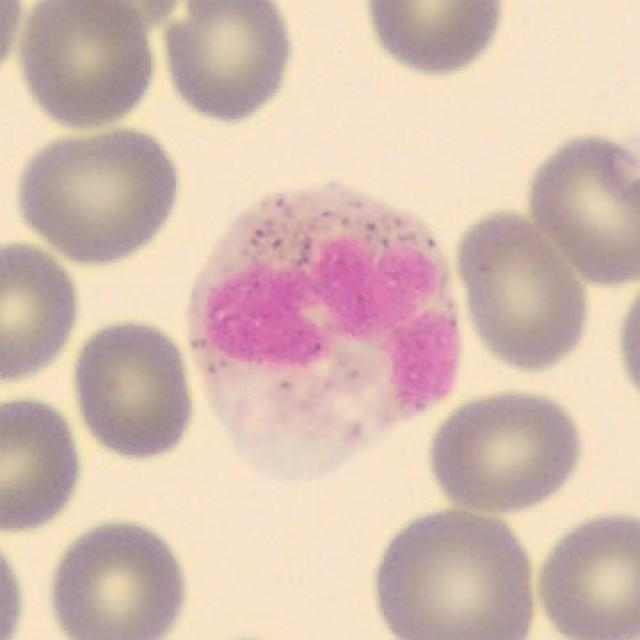Neutrofilo segmentado: (187, 183, 459, 482)
